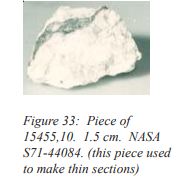Breccia: (31, 0, 152, 93)
